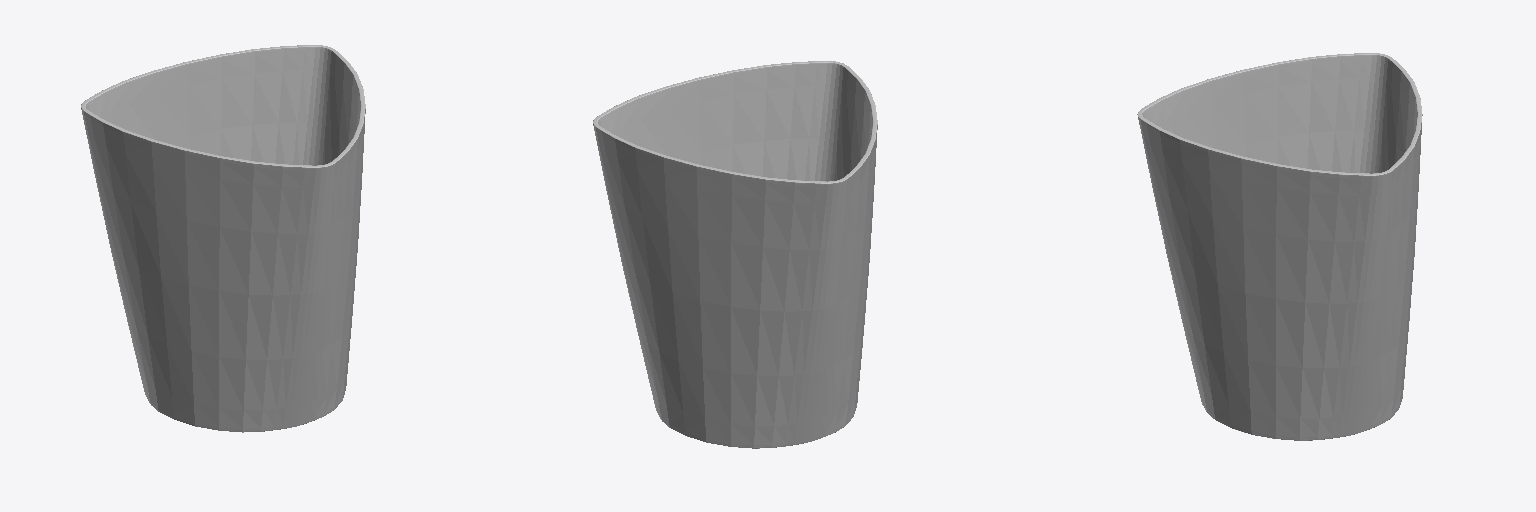
Rendered from FlowerPot_archmodels.001.obj.
3 views of the same model, side by side, from view 1: azimuth 30°, elevation 25°; view 2: azimuth 150°, elevation 25°; view 3: azimuth 270°, elevation 25° (orthographic).
Visible parts, largest first — view 1: FlowerPot_archmodels.001; view 2: FlowerPot_archmodels.001; view 3: FlowerPot_archmodels.001.
Part boxes in pixels (x1,y1,x2,y2): FlowerPot_archmodels.001: (81, 45, 365, 432); FlowerPot_archmodels.001: (593, 61, 877, 448); FlowerPot_archmodels.001: (1137, 53, 1422, 440).
Size of the model in its own units: 0.5085 by 0.5486 by 0.4985.